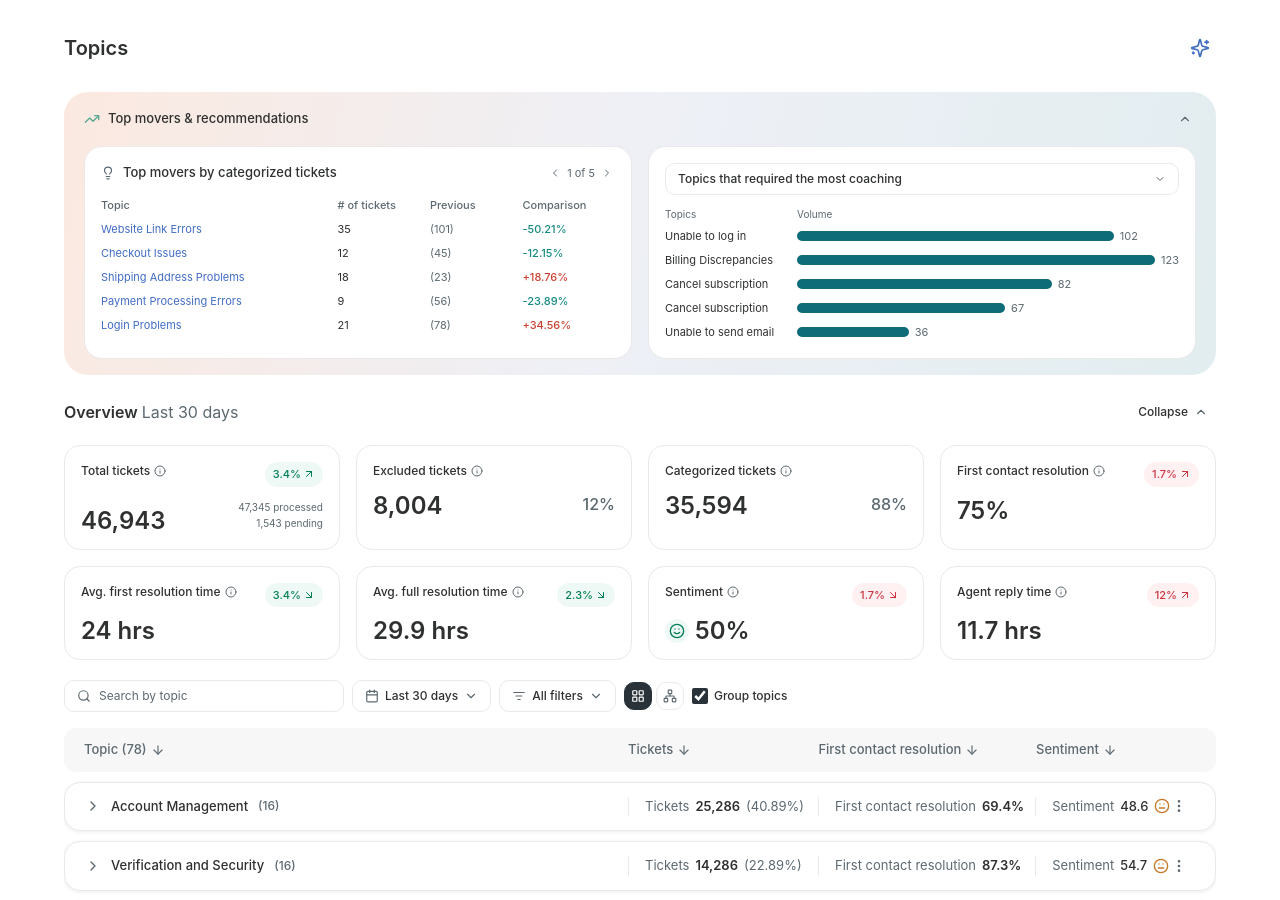
Scenario: per-screen header AI triggers (route-derived scope) › opens the scoped assistant from /insights/topics header
Click the button named "Ask AI about this page" at (1200, 48), box top-left (1184, 32), bottom-right (1216, 64)
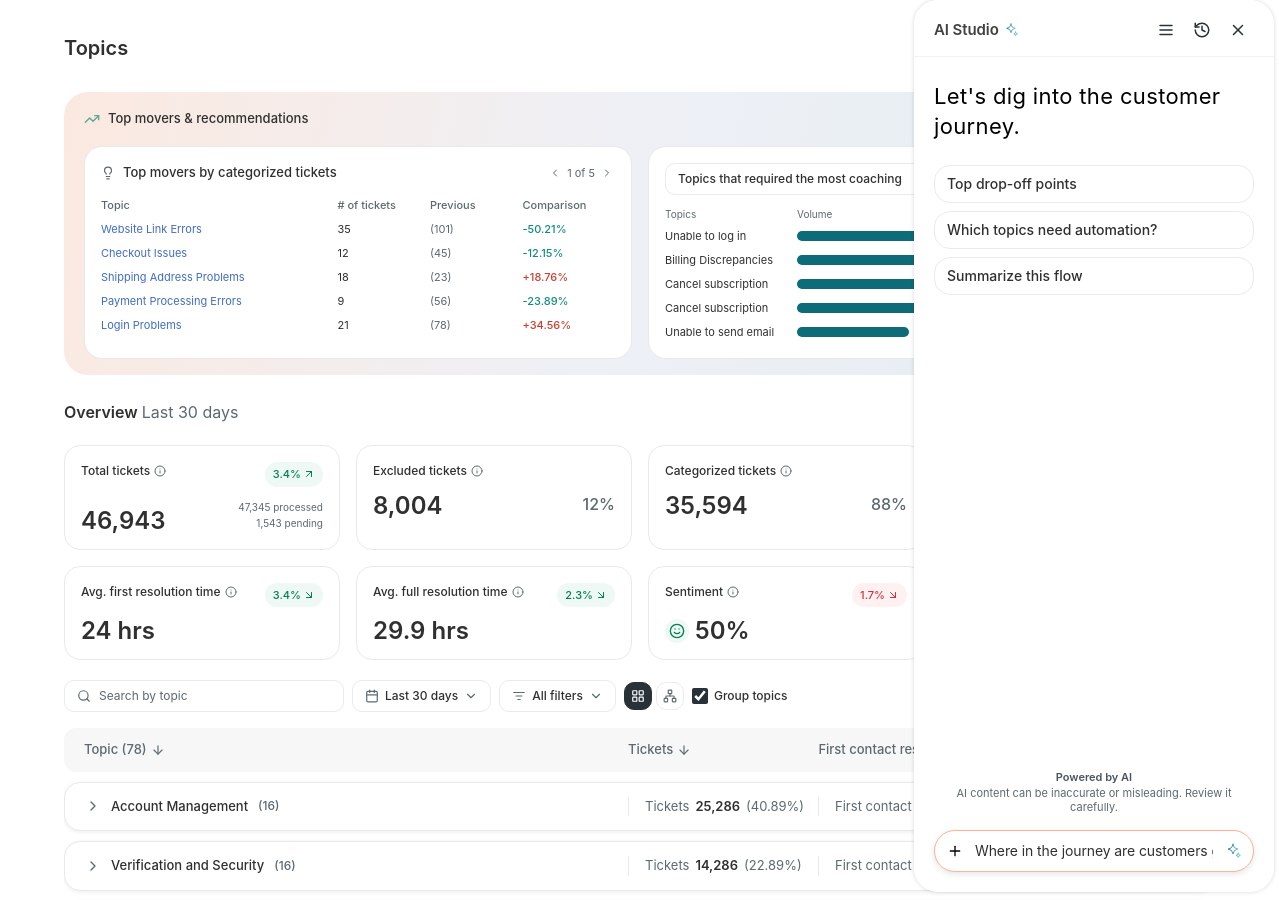
Expected: the element with test id "ai-studio-panel" is shown, top-left (914, 0), bottom-right (1274, 892)
Expected: the text "Let's dig into the customer journey." is shown, top-left (934, 81), bottom-right (1254, 141)
